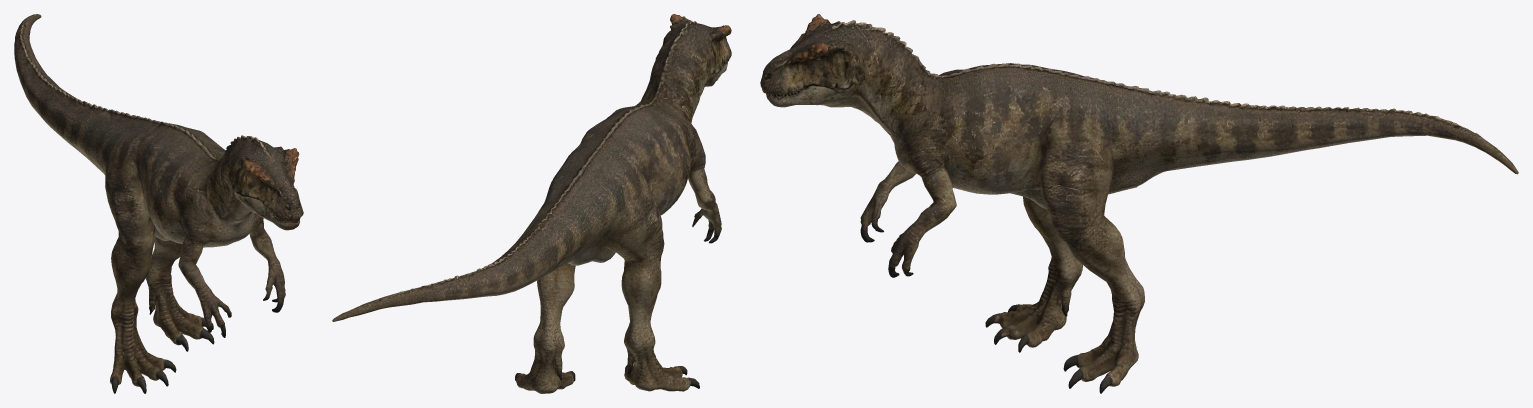
Rendered from allosaurus.glb.
3 views of the same model, side by side, from view 1: azimuth 30°, elevation 25°; view 2: azimuth 150°, elevation 25°; view 3: azimuth 270°, elevation 25° (orthographic). The views are drawn at different scales.
Visible parts, largest first — view 1: dino; view 2: dino; view 3: dino.
Part boxes in pixels (left/top/right/bottom): dino: left=14, top=14, right=303, bottom=393; dino: left=332, top=14, right=731, bottom=393; dino: left=760, top=14, right=1518, bottom=393.
Size of the model in its own units: 2.18 by 4.22 by 8.5.
Materials: 1 (1 with a texture image).
